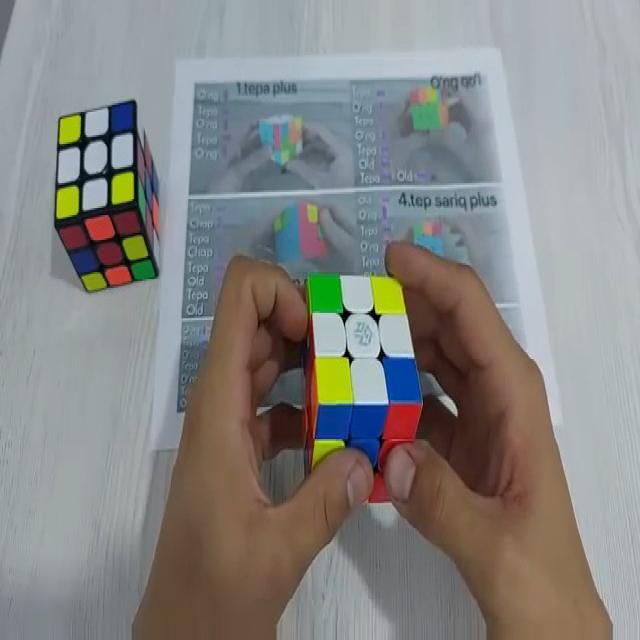Rub: (299, 273, 423, 506), (55, 99, 162, 294)
